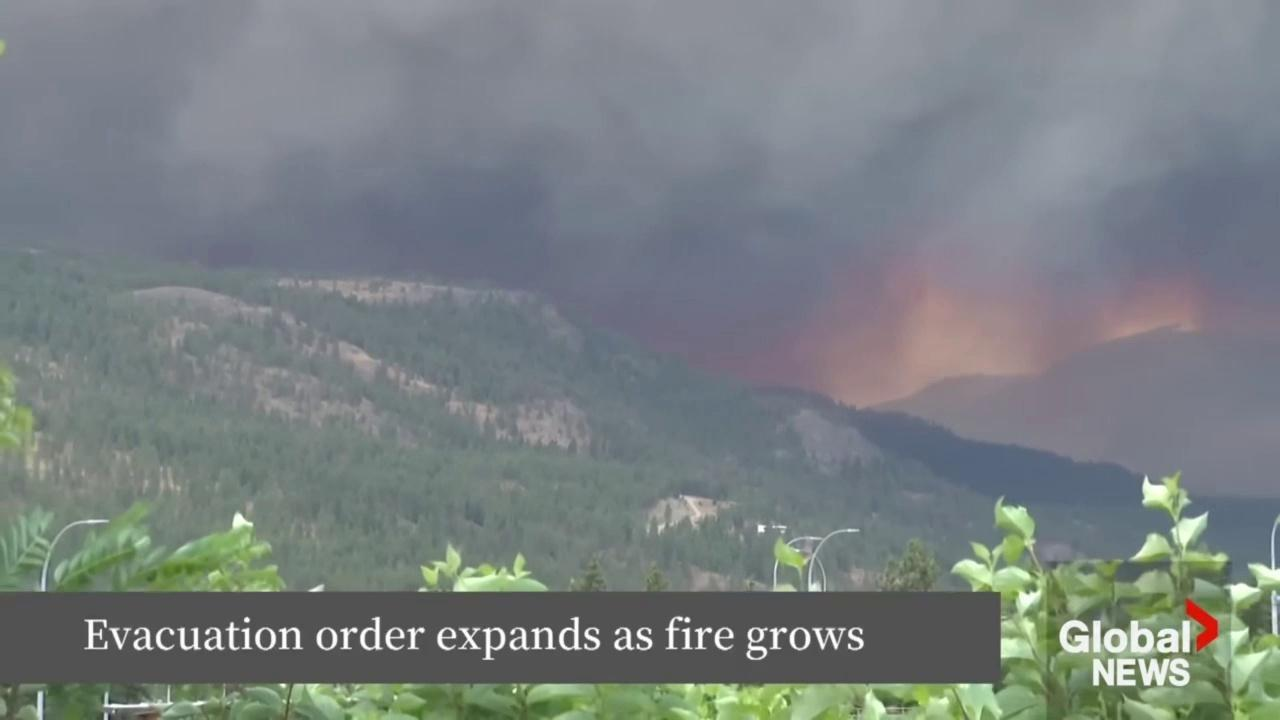smoke: (0, 0, 1280, 497)
